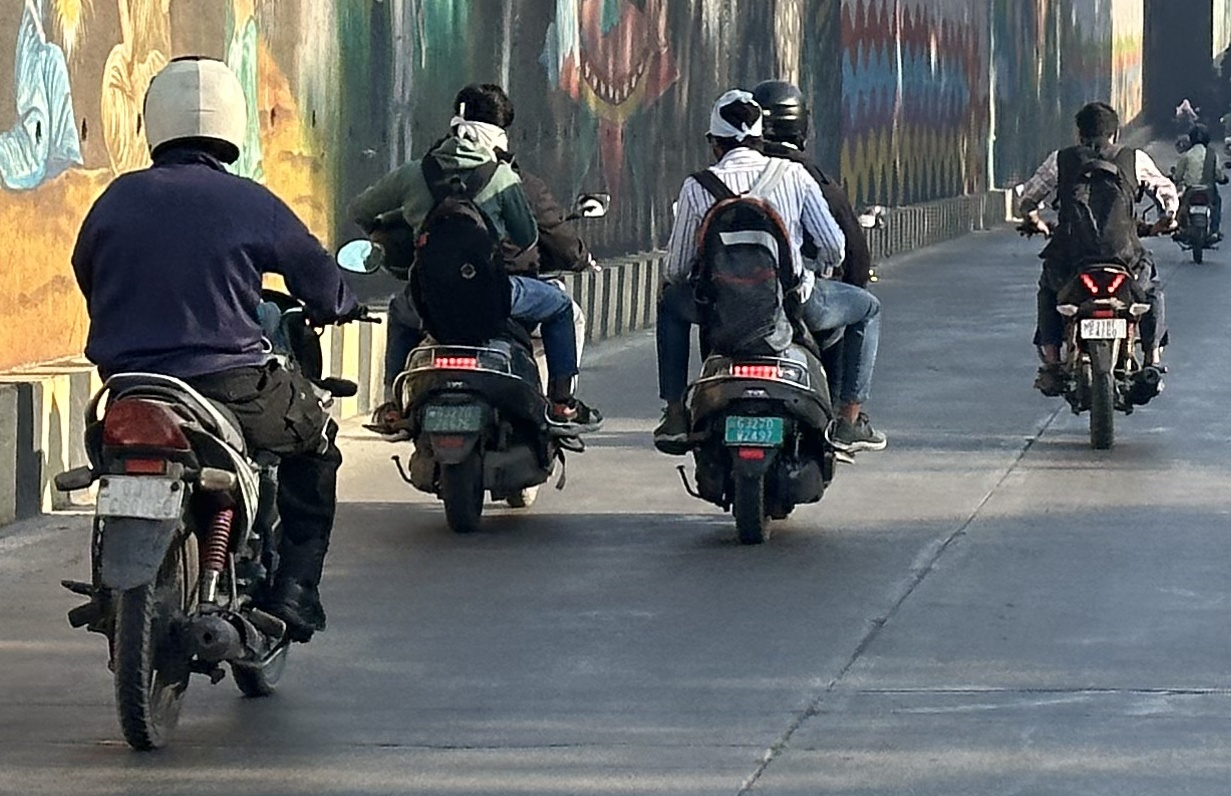BikeWithRider: (43, 46, 388, 762), (339, 71, 618, 539), (639, 70, 896, 552), (1002, 89, 1184, 460), (1160, 115, 1229, 272)
Helmet: (132, 48, 259, 172), (742, 74, 816, 157), (1182, 117, 1215, 150)
NoHelmet: (443, 77, 525, 159), (697, 83, 777, 166), (1064, 97, 1129, 152)
